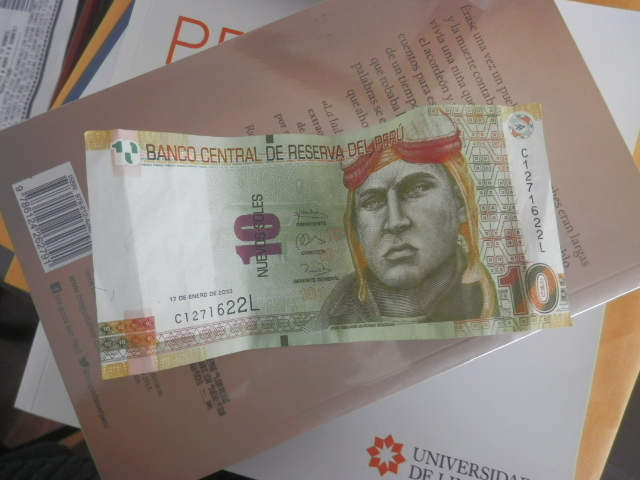B10: (81, 121, 569, 365)
